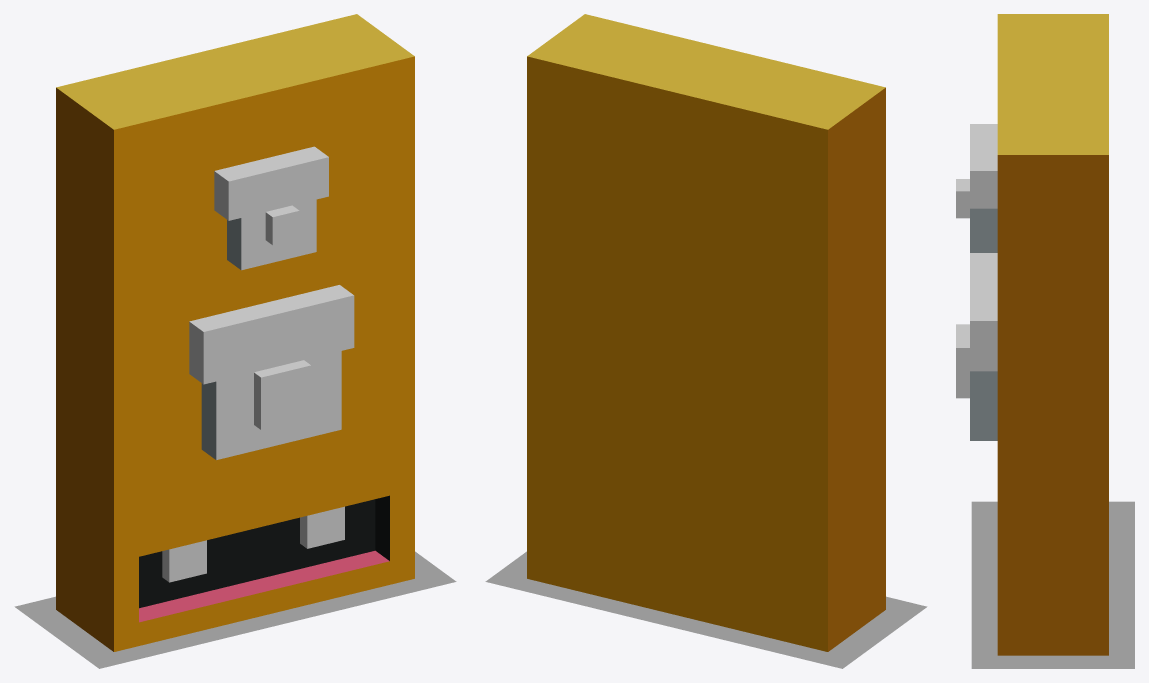
Rendered from EN_TallBit_Yellow.fbx.
The picture shows the model from 3 angles, left to right: view 1: azimuth 30°, elevation 25°; view 2: azimuth 150°, elevation 25°; view 3: azimuth 270°, elevation 25°; orthographic projection. The views are drawn at different scales.
Parts seen in each view (by area): view 1: Body, Eyebrow, Mouth, Eye, Shadow, Eyebrow_SM, Eye_SM, Pupil, Pupil_SM; view 2: Body, Shadow; view 3: Body, Shadow, Eyebrow, Eyebrow_SM, Eye, Eye_SM, Pupil, Pupil_SM.
Boxes of the visible parts, x1=… form: Body: x1=56, y1=14, x2=414, y2=651; Eyebrow: x1=189, y1=285, x2=354, y2=384; Mouth: x1=139, y1=550, x2=389, y2=645; Eye: x1=201, y1=351, x2=341, y2=460; Shadow: x1=14, y1=551, x2=456, y2=668; Eyebrow_SM: x1=214, y1=146, x2=328, y2=220; Eye_SM: x1=227, y1=199, x2=316, y2=270; Pupil: x1=254, y1=360, x2=311, y2=429; Pupil_SM: x1=265, y1=205, x2=299, y2=245; Body: x1=527, y1=14, x2=885, y2=651; Shadow: x1=485, y1=551, x2=927, y2=668; Body: x1=997, y1=14, x2=1108, y2=655; Shadow: x1=971, y1=501, x2=1134, y2=668; Eyebrow: x1=970, y1=253, x2=997, y2=371; Eyebrow_SM: x1=970, y1=124, x2=997, y2=208; Eye: x1=970, y1=371, x2=997, y2=440; Eye_SM: x1=970, y1=208, x2=997, y2=252; Pupil: x1=956, y1=324, x2=969, y2=398; Pupil_SM: x1=956, y1=179, x2=969, y2=218.
Size of the model in its own units: 71.23 by 100 by 32.18.
